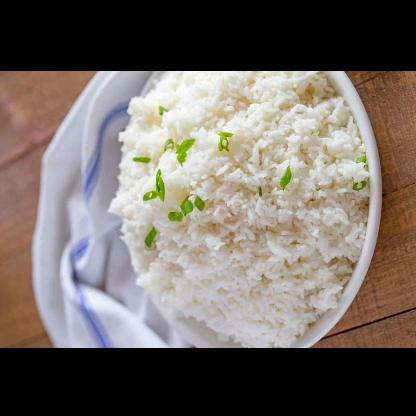white rice: (108, 69, 368, 345)
